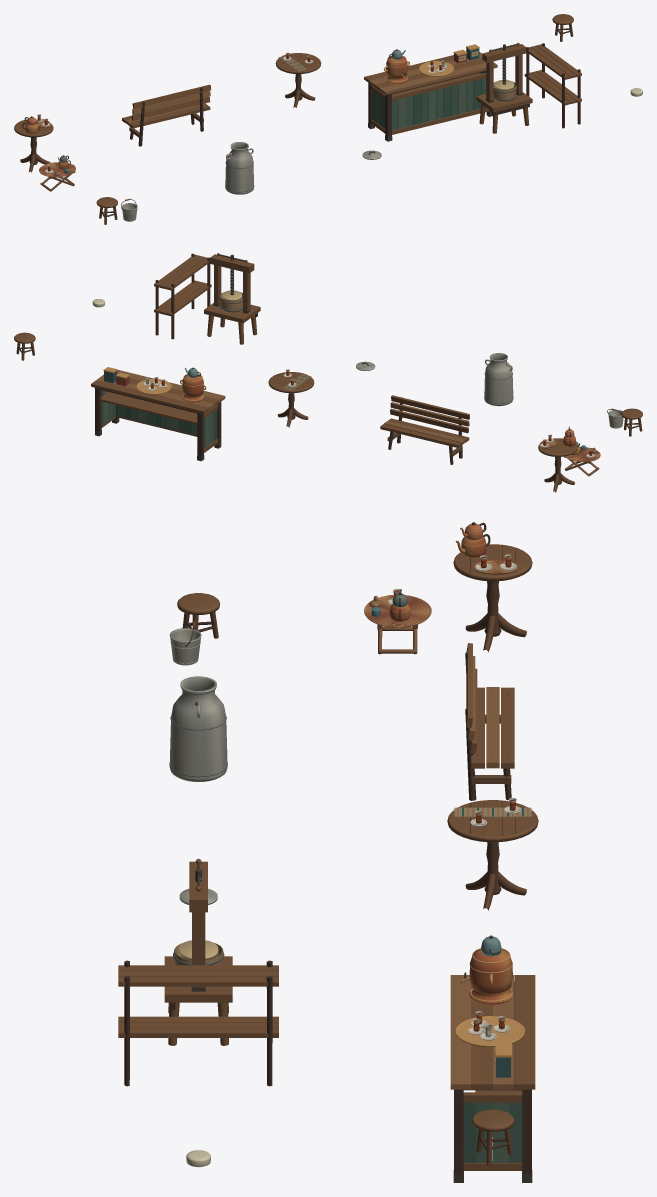
File: valley-props.glb
3 renders of one model, top to bottom at view 1: azimuth 30°, elevation 25°; view 2: azimuth 150°, elevation 25°; view 3: azimuth 270°, elevation 25°, orthographic. The views are drawn at different scales.
Parts seen in each view (by area): view 1: Cafe tea counter mesh, Cheese press and shelf mesh, Porch bench mesh, Milk churn mesh, Cafe tea table mesh, Porch tea table mesh, Milking station mesh, Hammered tray and folding stand, Wooden stool mesh, Screw and crossbar; view 2: Cafe tea counter mesh, Cheese press and shelf mesh, Porch bench mesh, Milk churn mesh, Cafe tea table mesh, Porch tea table mesh, Milking station mesh, Hammered tray and folding stand, Wooden stool mesh, Screw and crossbar; view 3: Cafe tea counter mesh, Cheese press and shelf mesh, Milk churn mesh, Porch bench mesh, Cafe tea table mesh, Porch tea table mesh, Milking station mesh, Hammered tray and folding stand, Wooden stool mesh.
Boxes of the visible parts, bbox=[...] form: Cafe tea counter mesh: bbox=[364, 44, 497, 141]; Cheese press and shelf mesh: bbox=[476, 43, 581, 133]; Porch bench mesh: bbox=[122, 84, 211, 146]; Milk churn mesh: bbox=[225, 142, 254, 194]; Cafe tea table mesh: bbox=[275, 52, 321, 107]; Porch tea table mesh: bbox=[14, 118, 53, 172]; Milking station mesh: bbox=[96, 197, 137, 224]; Hammered tray and folding stand: bbox=[39, 162, 75, 191]; Wooden stool mesh: bbox=[552, 14, 573, 41]; Screw and crossbar: bbox=[489, 42, 519, 89]; Cafe tea counter mesh: bbox=[91, 367, 225, 461]; Cheese press and shelf mesh: bbox=[154, 253, 260, 344]; Porch bench mesh: bbox=[380, 395, 469, 464]; Milk churn mesh: bbox=[484, 353, 513, 406]; Cafe tea table mesh: bbox=[268, 369, 314, 427]; Porch tea table mesh: bbox=[538, 434, 577, 492]; Milking station mesh: bbox=[607, 408, 642, 436]; Hammered tray and folding stand: bbox=[564, 445, 600, 476]; Wooden stool mesh: bbox=[14, 332, 35, 360]; Screw and crossbar: bbox=[217, 253, 247, 300]; Cafe tea counter mesh: bbox=[450, 935, 535, 1182]; Cheese press and shelf mesh: bbox=[118, 861, 278, 1086]; Milk churn mesh: bbox=[169, 676, 227, 781]; Porch bench mesh: bbox=[465, 643, 514, 800]; Cafe tea table mesh: bbox=[447, 798, 538, 910]; Porch tea table mesh: bbox=[453, 544, 532, 652]; Milking station mesh: bbox=[169, 593, 219, 665]; Hammered tray and folding stand: bbox=[364, 594, 431, 654]; Wooden stool mesh: bbox=[471, 1109, 514, 1165].
Bounding box in the file's own units: 11.34 × 2.54 × 3.71.
